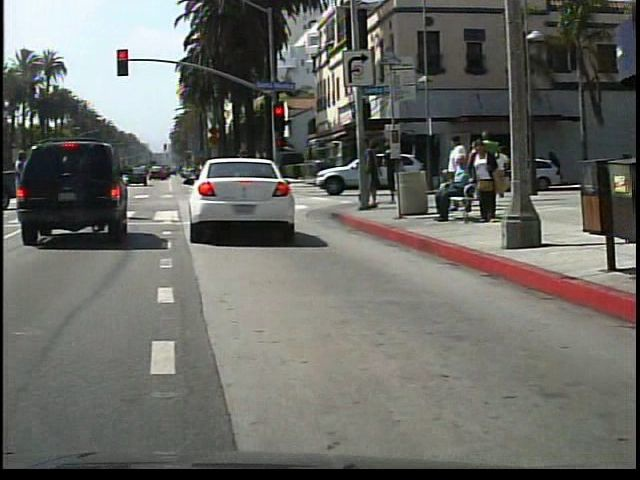person: (472, 135, 509, 230), (438, 155, 482, 222), (232, 142, 268, 218)
